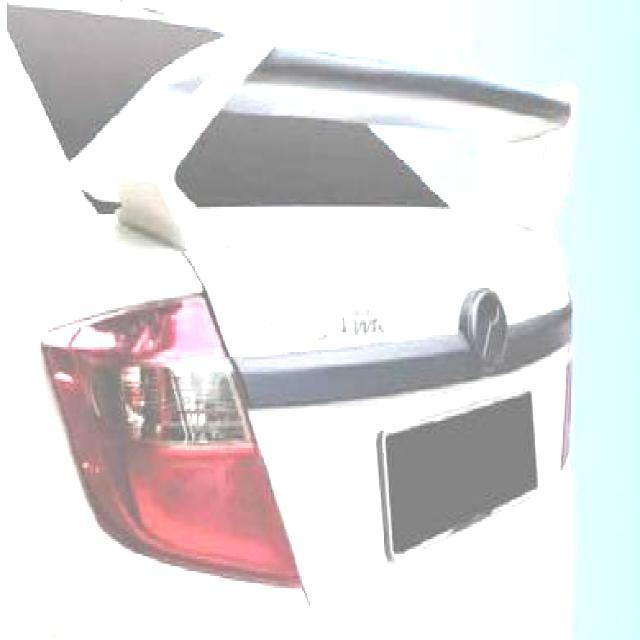PeroduaBezza: (5, 3, 576, 601)
